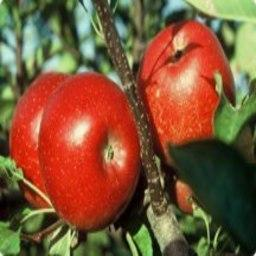apple: (39, 72, 140, 231), (137, 20, 234, 161)
